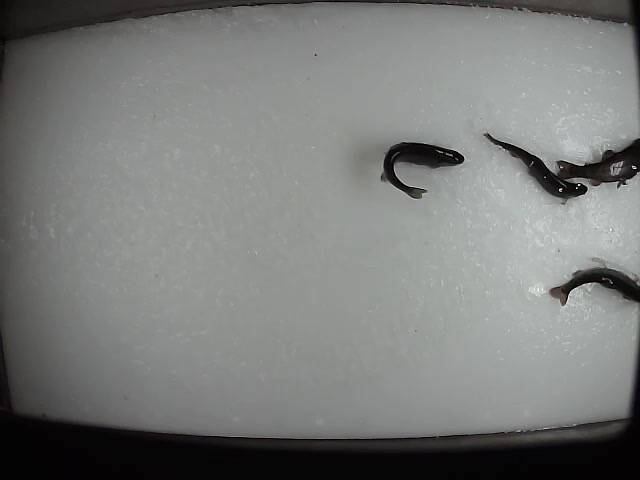Fish: (484, 132, 588, 206), (381, 142, 464, 199)
